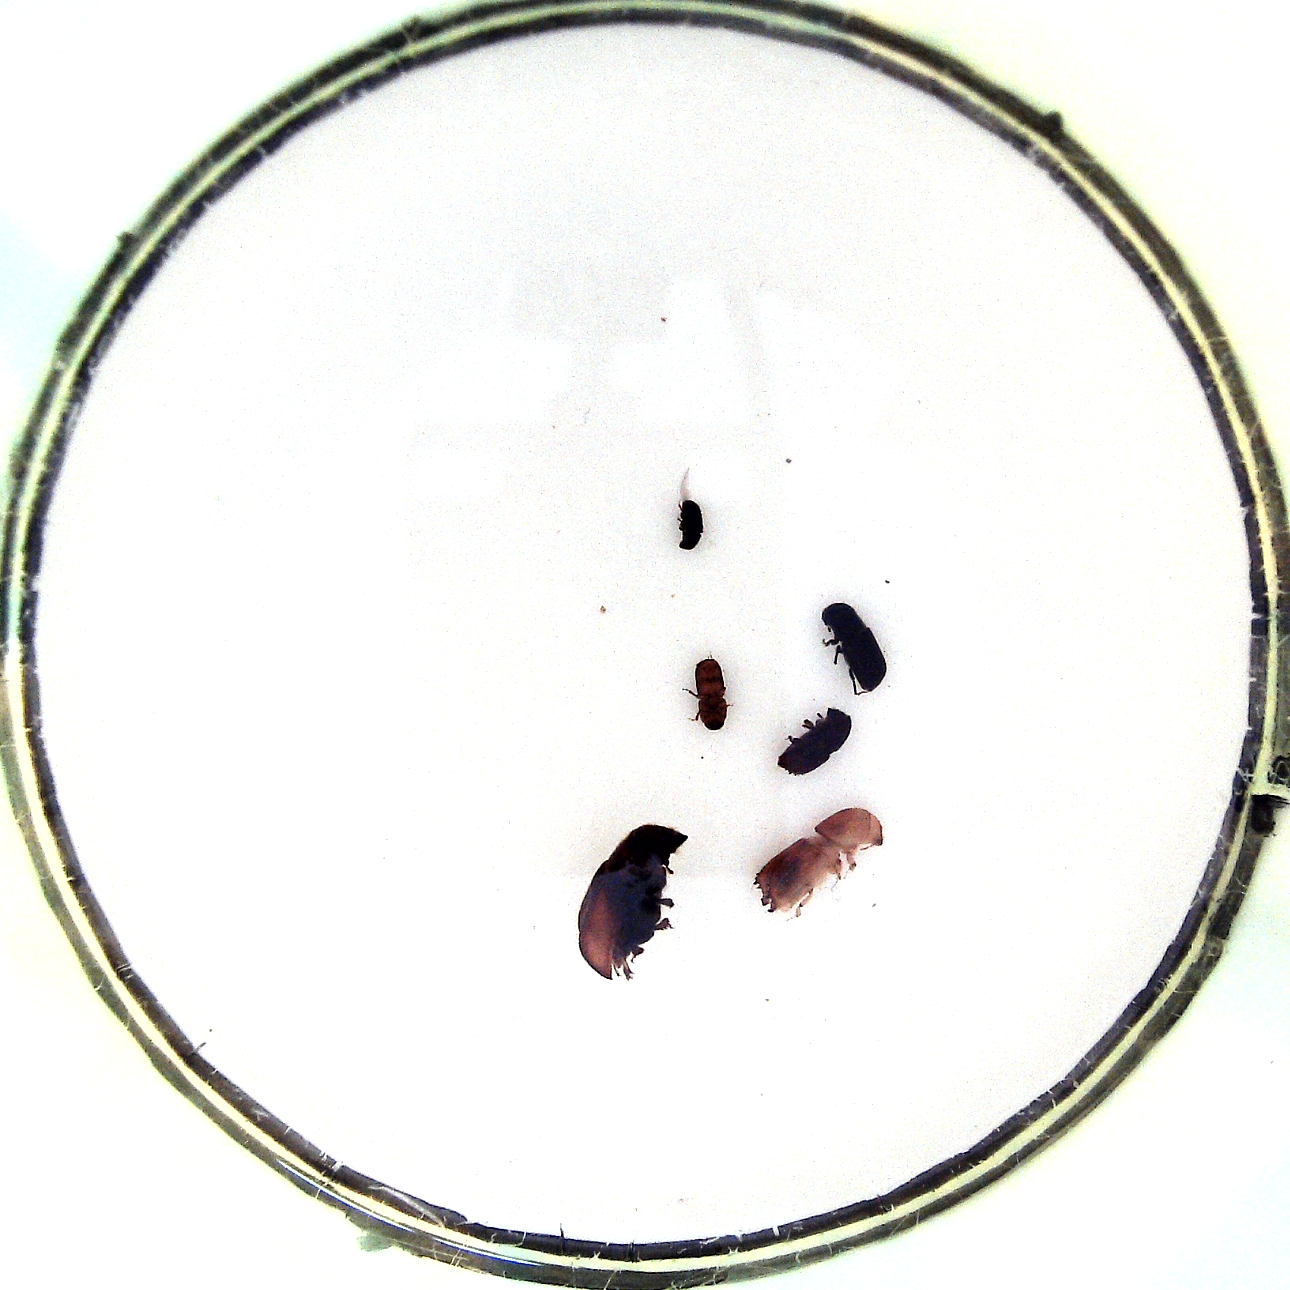Boerner: (751, 804, 890, 920)
Leconte: (574, 823, 692, 986)
Linnaeus: (775, 705, 856, 777)
acuminatus: (680, 656, 740, 732)
armandi: (817, 600, 888, 696)
coleoptera: (670, 473, 704, 556)
